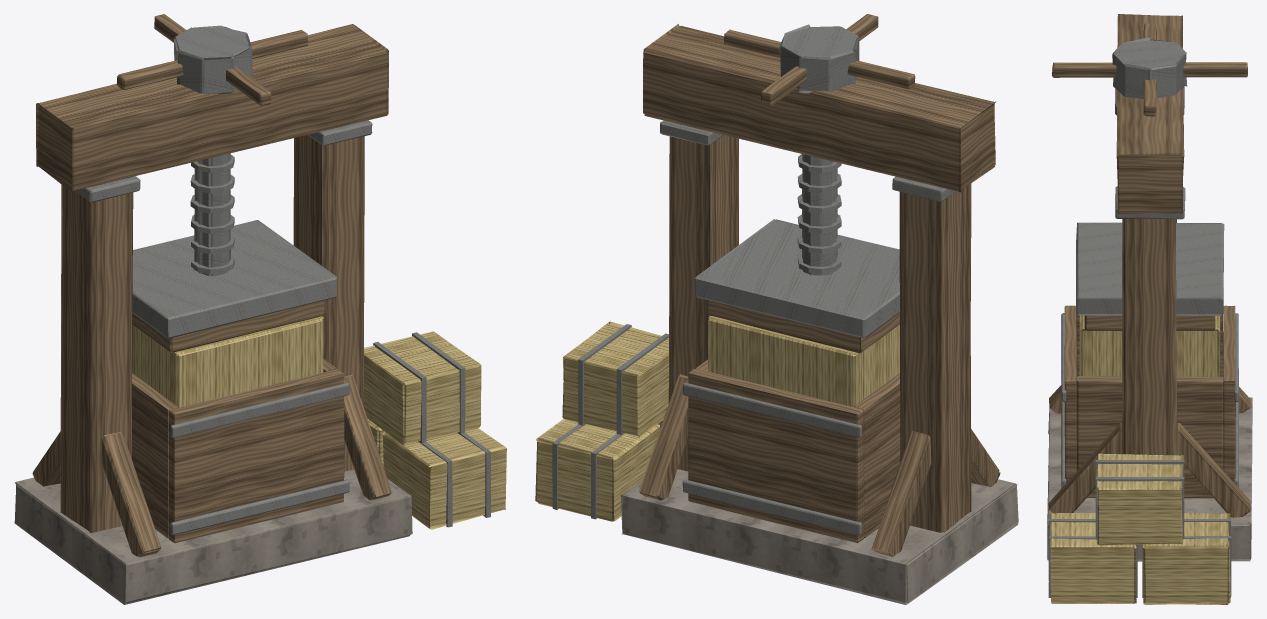
File: hay_press.glb
3 views of the same model, side by side, from view 1: azimuth 30°, elevation 25°; view 2: azimuth 150°, elevation 25°; view 3: azimuth 270°, elevation 25° (orthographic). The views are drawn at different scales.
Parts seen in each view (by area): view 1: HayPress; view 2: HayPress; view 3: HayPress.
Part boxes in pixels (x1,y1,x2,y2): HayPress: [14, 14, 506, 604]; HayPress: [535, 14, 1018, 604]; HayPress: [1047, 14, 1252, 604].
Size of the model in its own units: 2.9 by 3.39 by 1.41.
4 materials, 4 textured.
